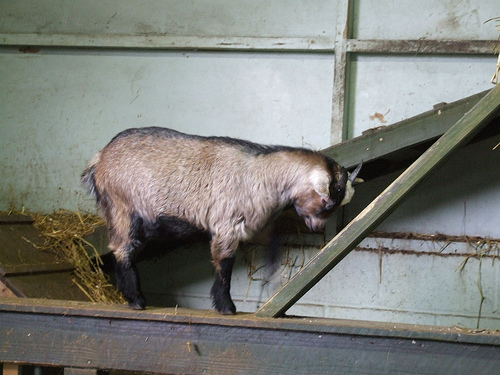goat: (81, 126, 364, 316)
